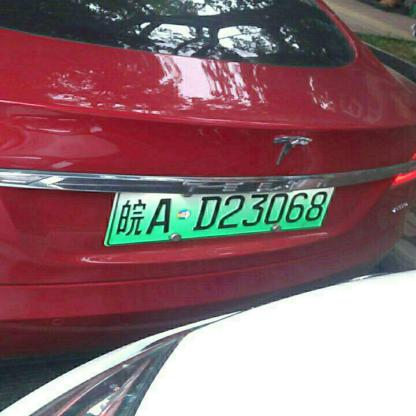lp: (109, 189, 335, 244)
